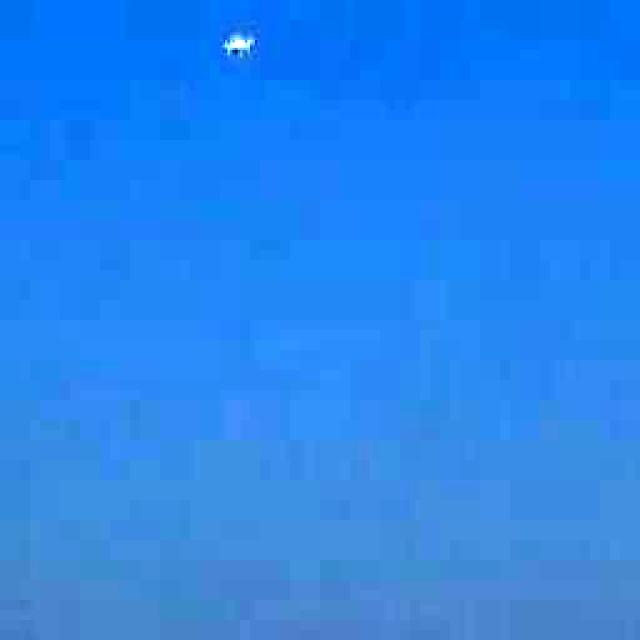bird: (204, 16, 274, 84)
